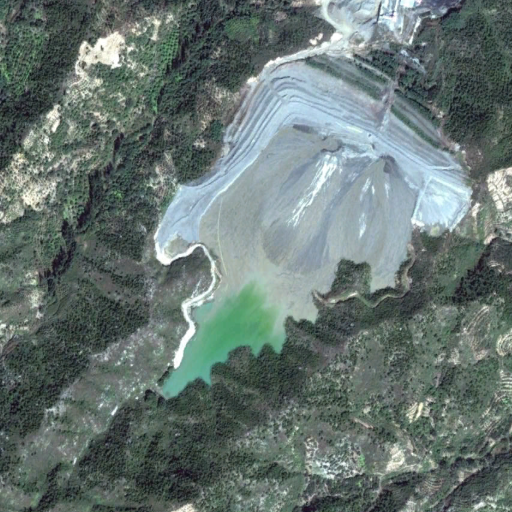tp: (153, 45, 470, 398)
